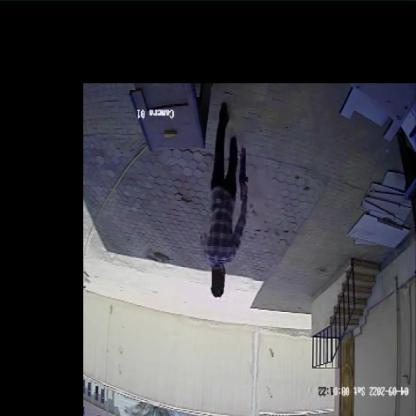handgun: (233, 146, 252, 208)
